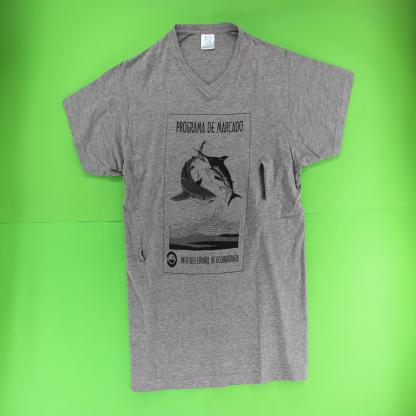hole: (258, 156, 267, 202), (139, 230, 147, 266)
